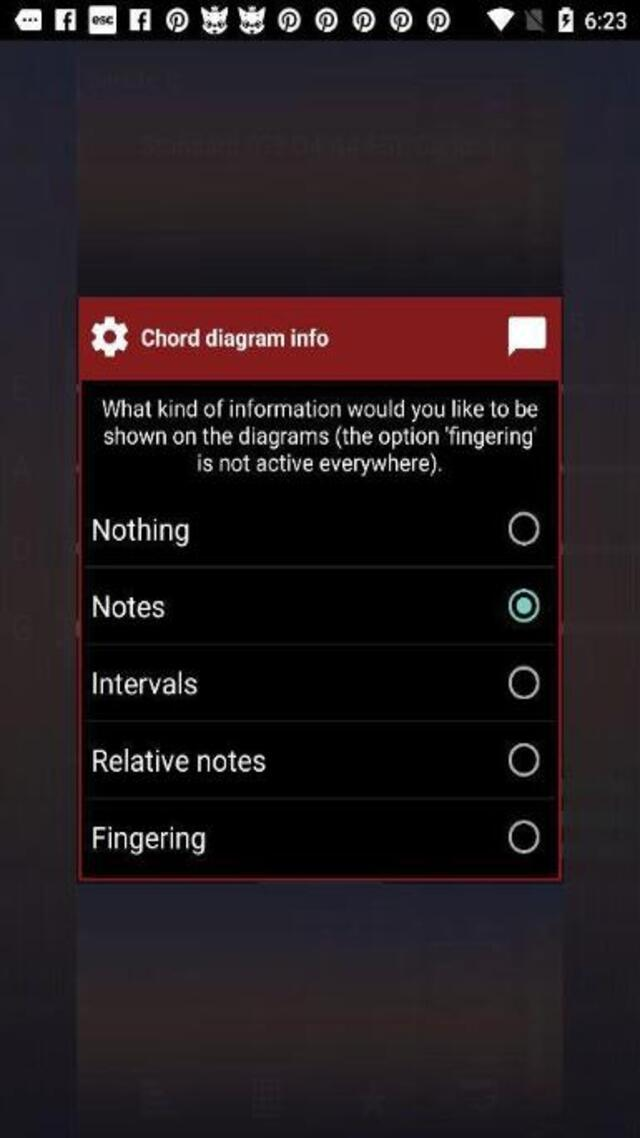CheckedTextView: (89, 820, 542, 858), (90, 588, 539, 625), (89, 666, 539, 702), (89, 513, 539, 548), (90, 743, 539, 777)
Icon: (506, 316, 544, 356), (91, 316, 128, 356)
Text: (100, 396, 539, 423), (100, 426, 538, 451), (192, 452, 446, 479), (138, 327, 335, 352), (90, 748, 267, 775), (91, 827, 209, 857), (91, 516, 191, 546), (92, 672, 199, 698), (91, 595, 167, 621)
